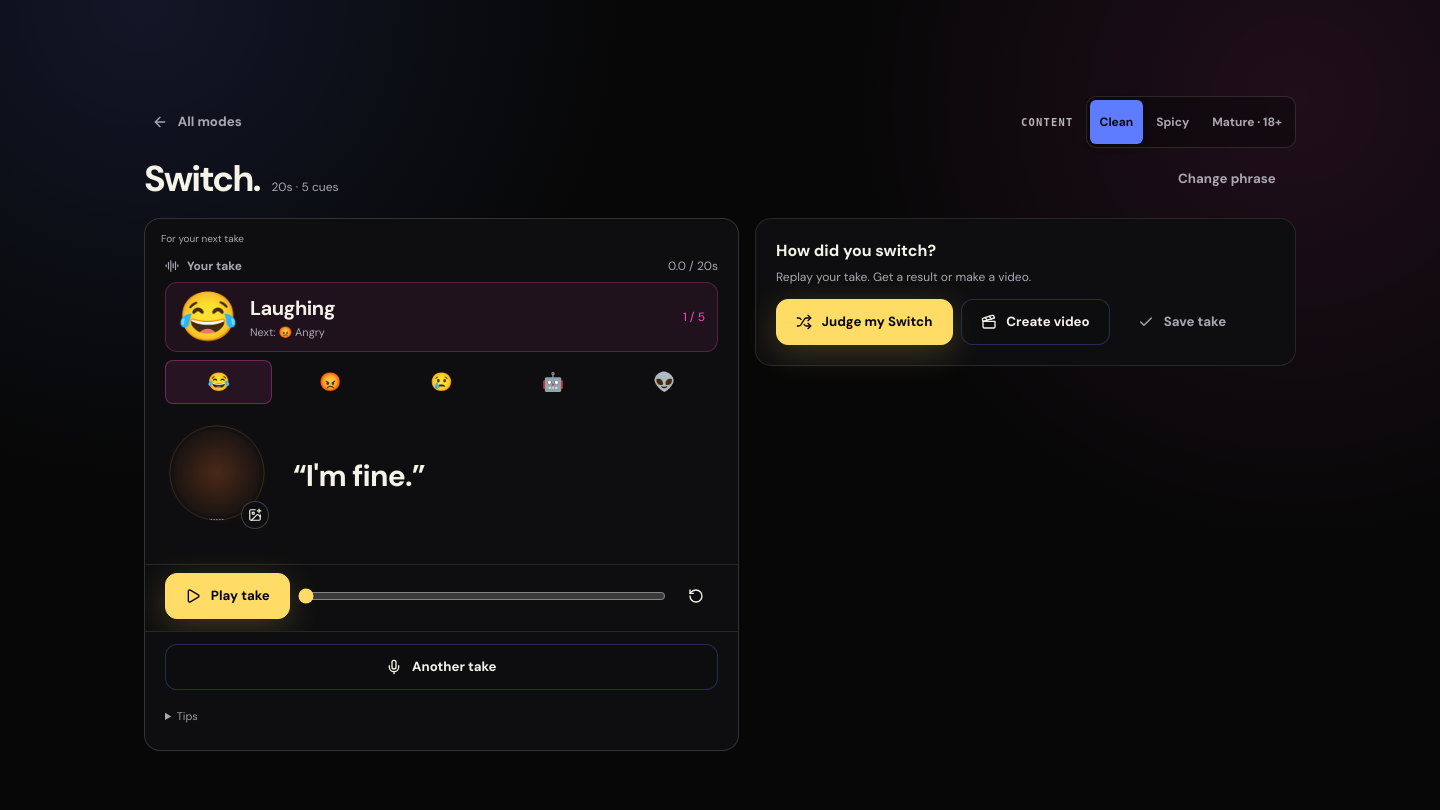
Test: Switch take recovery and immutable playback › retains immediate replay and the same attempt key when an upload must be retried
The width and height of the screenshot is (1440, 810).
Click the button "Save take".
click(1182, 322)  # box [1118, 299, 1246, 345]
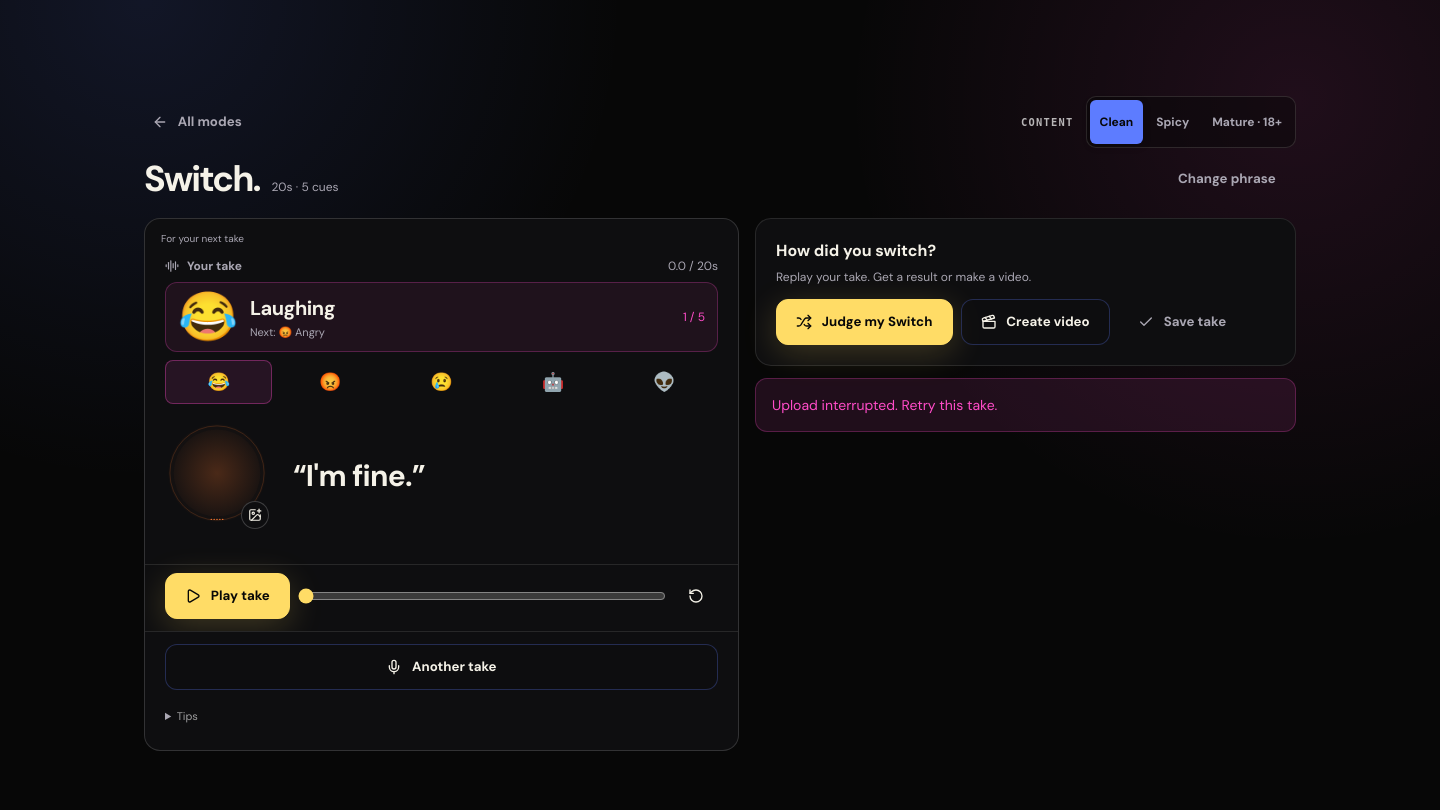
Now the message shows "Upload interrupted", box [772, 396, 997, 414]
Click the button "Save take".
click(1182, 322)  # box [1118, 299, 1246, 345]
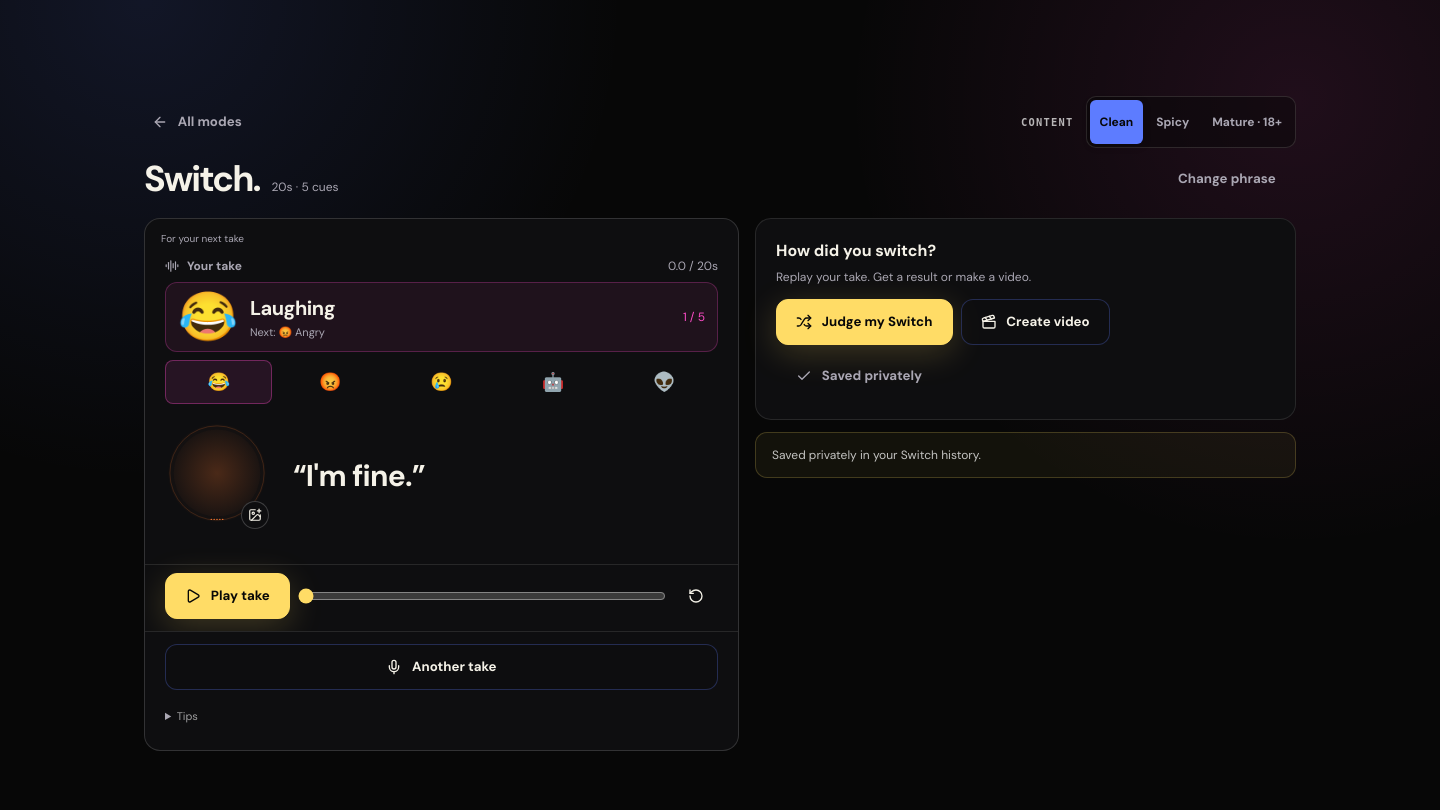
Now the button "Saved privately" is shown, box [776, 353, 942, 399]
